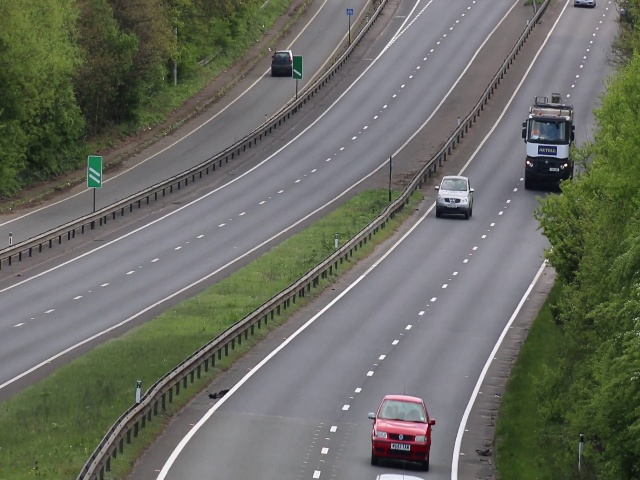car: (371, 392, 432, 472), (523, 109, 574, 193), (434, 174, 476, 221), (270, 47, 295, 77)
